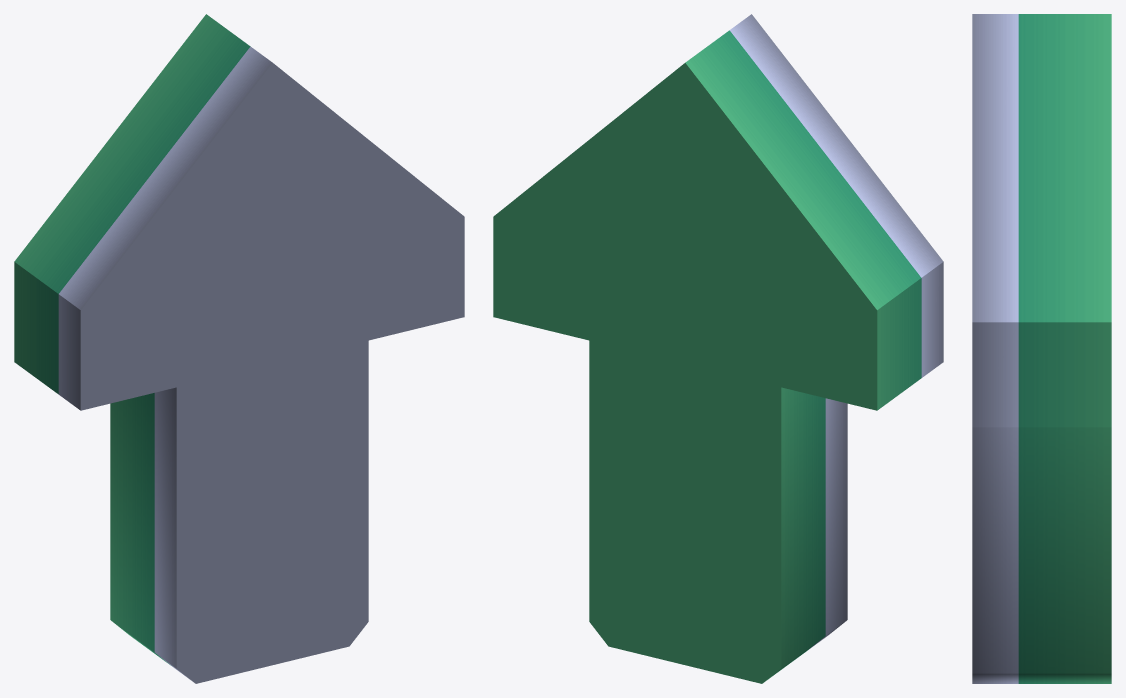
Rendered from arrow.obj.
3 renders of one model, left to right at view 1: azimuth 30°, elevation 25°; view 2: azimuth 150°, elevation 25°; view 3: azimuth 270°, elevation 25°, orthographic. The views are drawn at different scales.
Visible parts, largest first — view 1: arrow; view 2: arrow; view 3: arrow.
Boxes of the visible parts, box(x1,y1,x2,y2) form: arrow: box(14, 14, 464, 683); arrow: box(493, 14, 943, 683); arrow: box(972, 14, 1111, 683).
Bounding box in the file's own units: 2 × 3 × 0.6.
